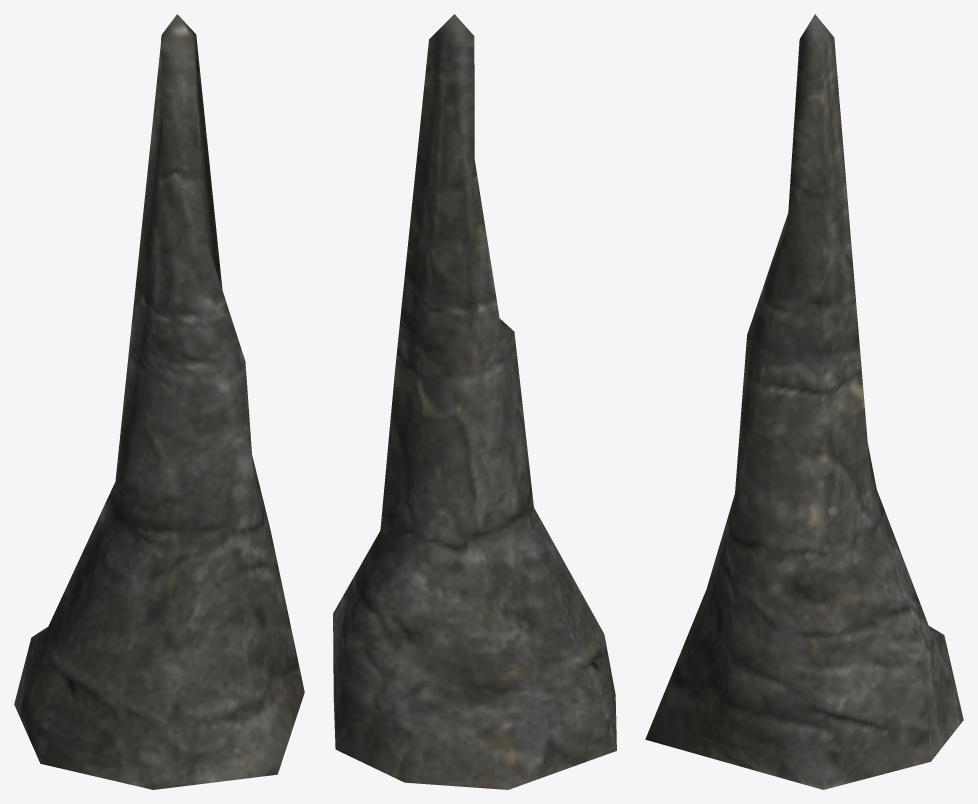
Rendered from Stal6.fbx.
3 views of the same model, side by side, from view 1: azimuth 30°, elevation 25°; view 2: azimuth 150°, elevation 25°; view 3: azimuth 270°, elevation 25° (orthographic).
Visible parts, largest first — view 1: Stal2_polySurface12; view 2: Stal2_polySurface12; view 3: Stal2_polySurface12.
Boxes of the visible parts, x1,y1,x2,y2 form: Stal2_polySurface12: (14, 14, 304, 789); Stal2_polySurface12: (333, 14, 616, 789); Stal2_polySurface12: (645, 14, 963, 789).
Size of the model in its own units: 0.8603 by 2.19 by 0.8786.
